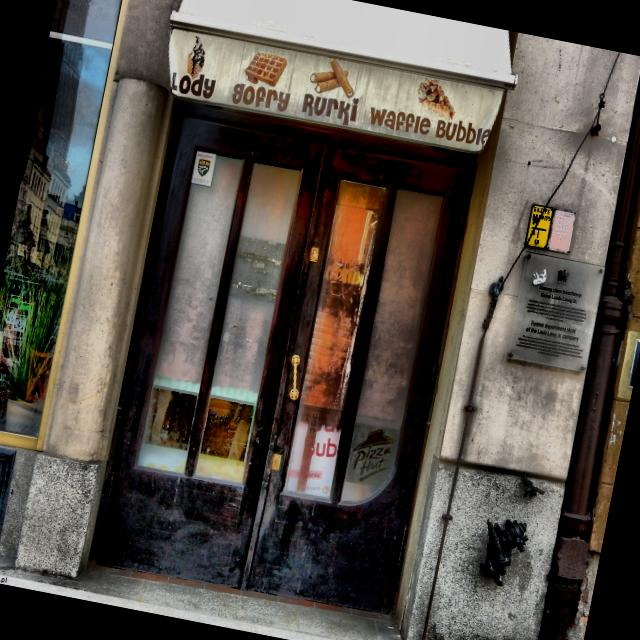Dziupelka: (480, 519, 528, 586), (523, 473, 545, 498)
